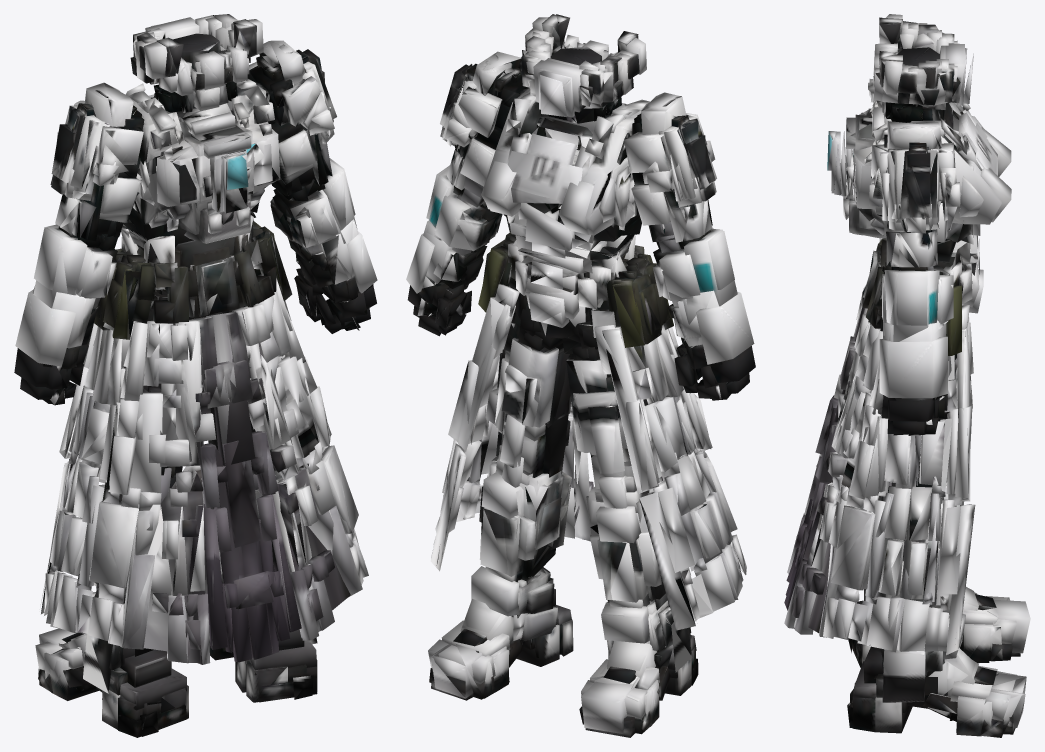
Rendered from numbers4_suit.obj.
3 renders of one model, left to right at view 1: azimuth 30°, elevation 25°; view 2: azimuth 150°, elevation 25°; view 3: azimuth 270°, elevation 25°, orthographic. The views are drawn at different scales.
Parts seen in each view (by area): view 1: numbers4_suit; view 2: numbers4_suit; view 3: numbers4_suit.
Boxes of the visible parts, x1,y1,x2,y2 form: numbers4_suit: (14,14,377,737); numbers4_suit: (406,14,755,737); numbers4_suit: (784,14,1030,737).
Size of the model in its own units: 0.9592 by 1.77 by 0.611.
